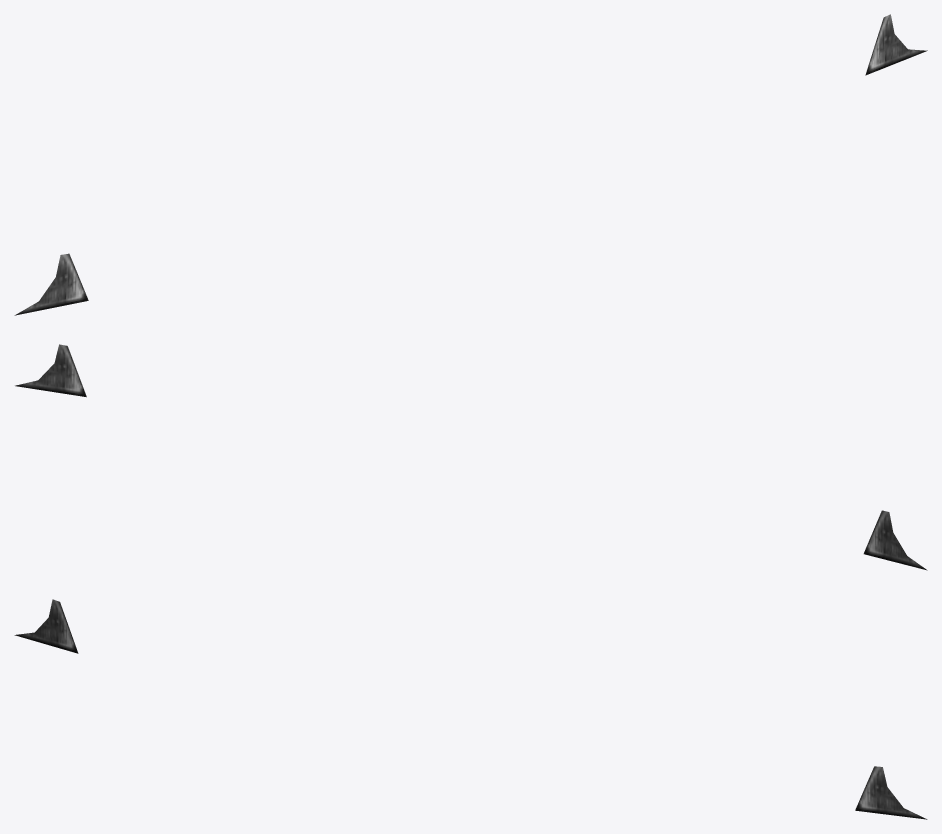
The model's file is tozzo98_reverse_ucb_lights_and_glass_0.005_lev3.glb.
3 views of the same model, one above another, from view 1: azimuth 30°, elevation 25°; view 2: azimuth 150°, elevation 25°; view 3: azimuth 330°, elevation 25° (orthographic). The views are drawn at different scales.
Parts seen in each view (by area): view 1: tozzo98_reverse_ucb_lights_and_glass_0.005_lev3; view 2: tozzo98_reverse_ucb_lights_and_glass_0.005_lev3; view 3: tozzo98_reverse_ucb_lights_and_glass_0.005_lev3.
Boxes of the visible parts, x1,y1,x2,y2 form: tozzo98_reverse_ucb_lights_and_glass_0.005_lev3: (14, 14, 927, 315); tozzo98_reverse_ucb_lights_and_glass_0.005_lev3: (15, 344, 927, 570); tozzo98_reverse_ucb_lights_and_glass_0.005_lev3: (14, 599, 927, 819).
Size of the model in its own units: 1.2 by 0.0631 by 0.0986.
1 material, 1 textured.
